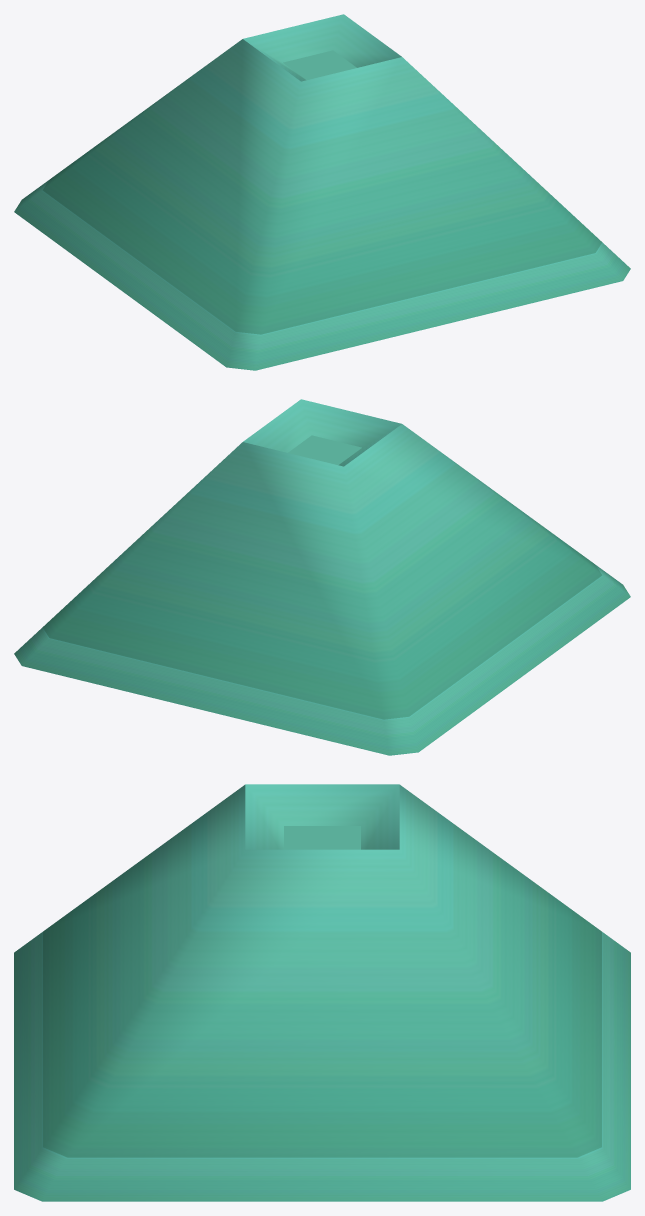
Rendered from roof-point.glb.
3 renders of one model, top to bottom at view 1: azimuth 30°, elevation 25°; view 2: azimuth 150°, elevation 25°; view 3: azimuth 270°, elevation 25°, orthographic. The views are drawn at different scales.
Visible parts, largest first — view 1: roof-point; view 2: roof-point; view 3: roof-point.
Part boxes in pixels (left/top/right/bottom): roof-point: left=14, top=14, right=630, bottom=370; roof-point: left=14, top=399, right=630, bottom=755; roof-point: left=14, top=784, right=630, bottom=1201.
Bounding box in the file's own units: 1.1 × 0.5 × 1.1.
1 material, 1 textured.
